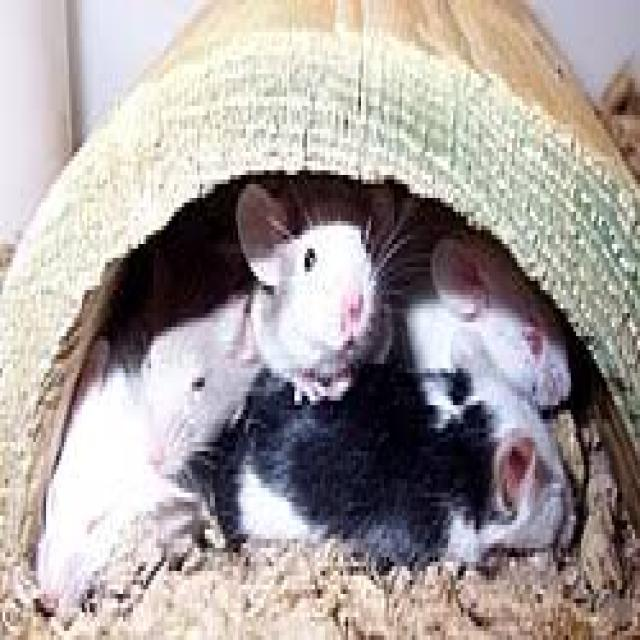rat: (34, 170, 418, 612)
